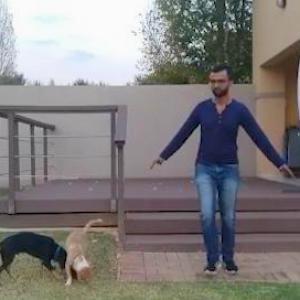land: (150, 72, 299, 280)
